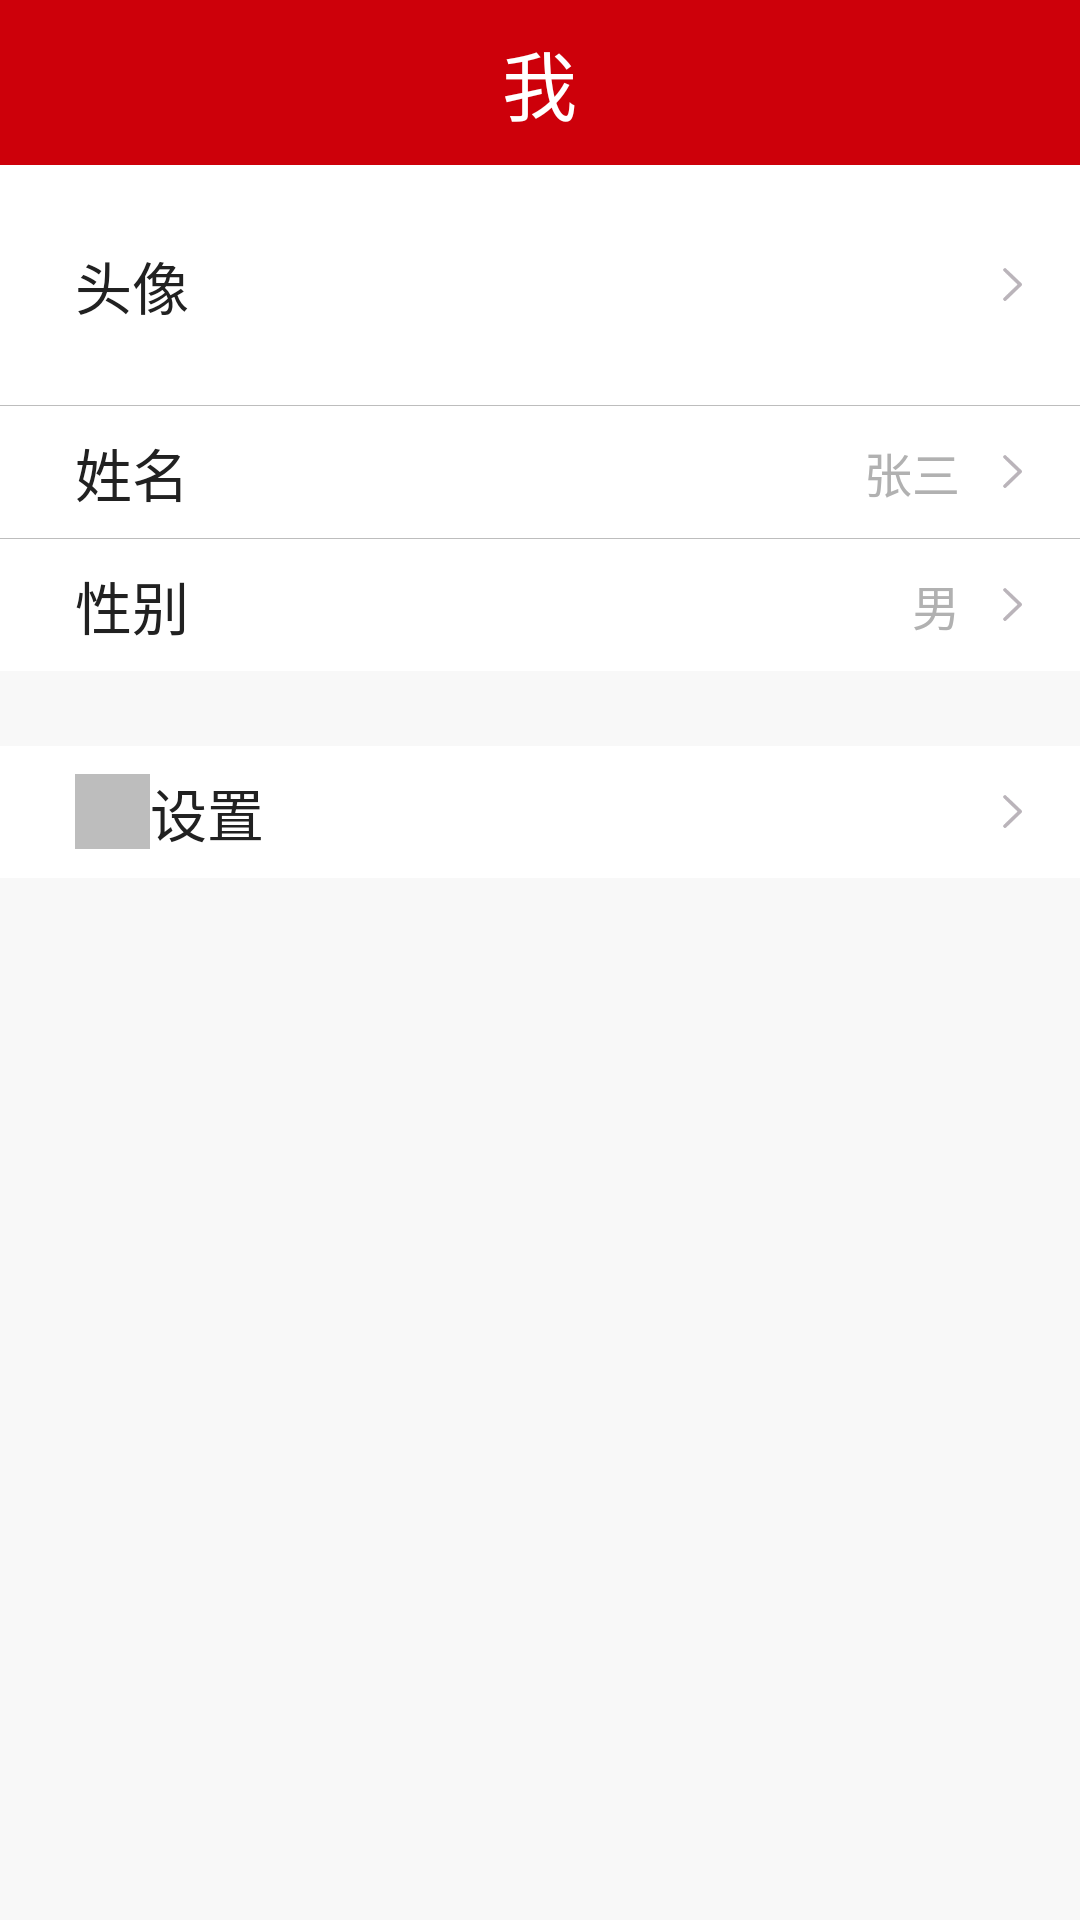

Where icons sit on this 1080 x 1920 app screen, as [x1=x1, y1=y1, x2=x2, y2=y2]:
arrow right: [x1=1003, y1=268, x2=1022, y2=301], [x1=1003, y1=455, x2=1022, y2=488], [x1=1003, y1=588, x2=1022, y2=621], [x1=1003, y1=795, x2=1022, y2=828]
